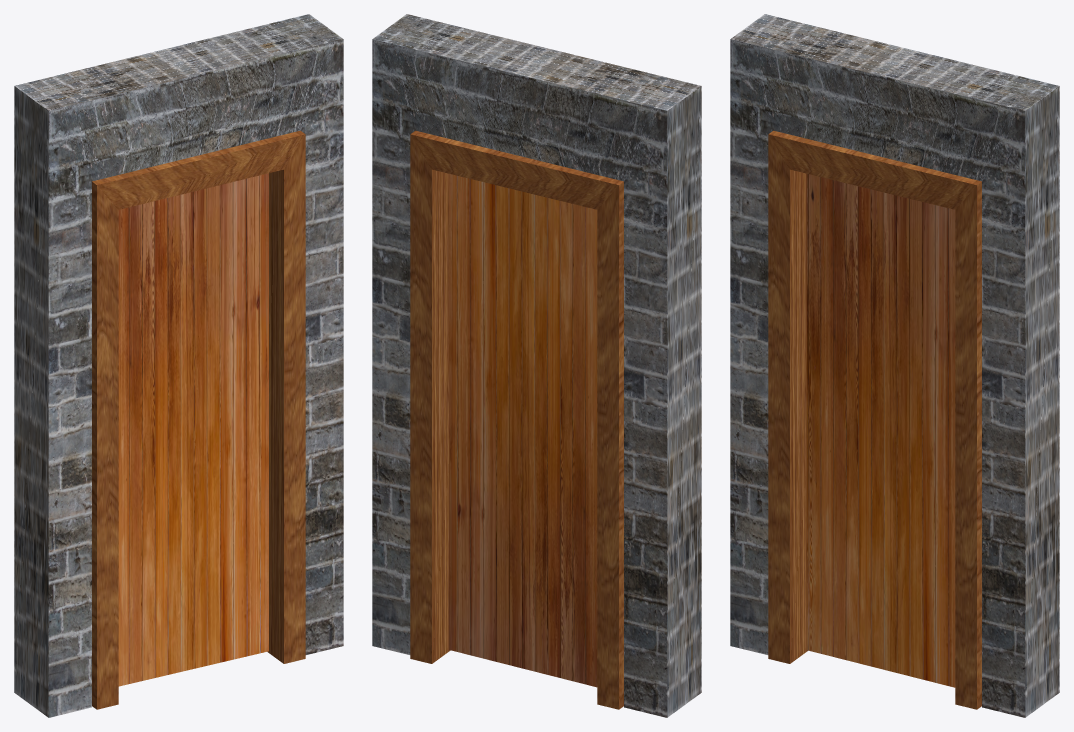
The model's file is stone_wall_door.fbx.
3 views of the same model, side by side, from view 1: azimuth 30°, elevation 25°; view 2: azimuth 150°, elevation 25°; view 3: azimuth 330°, elevation 25° (orthographic).
Parts seen in each view (by area): view 1: brick_wall.002, door.004, door_frame.001; view 2: brick_wall.002, door.004, door_frame.001; view 3: brick_wall.002, door.004, door_frame.001.
Part boxes in pixels (x1,y1,x2,y2): brick_wall.002: (14,14,343,717); door.004: (118,173,268,686); door_frame.001: (92,130,305,709); brick_wall.002: (372,14,701,717); door.004: (449,174,597,687); door_frame.001: (410,130,623,709); brick_wall.002: (730,14,1059,717); door.004: (806,174,955,687); door_frame.001: (768,130,981,709).
Size of the model in its own units: 159 by 313 by 41.69.
3 materials, 3 textured.
